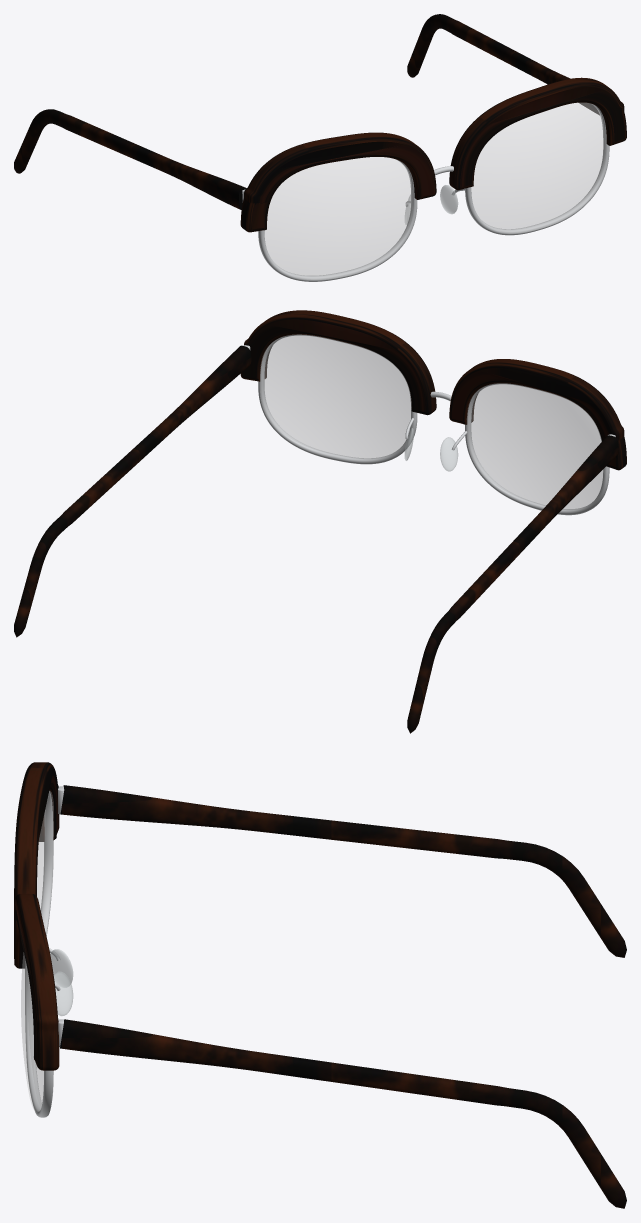
File: clark-s.glb
3 renders of one model, top to bottom at view 1: azimuth 30°, elevation 25°; view 2: azimuth 150°, elevation 25°; view 3: azimuth 270°, elevation 25°, orthographic. The views are drawn at different scales.
Visible parts, largest first — view 1: Front, Lens_R, Lens_L, Temple_R, Temple_L, NosePads; view 2: Front, Lens_L, Lens_R, Temple_L, Temple_R, NosePads; view 3: Temple_L, Temple_R, Front, Lens_L, Lens_R, NosePads.
Boxes of the visible parts, x1,y1,x2,y2 form: Front: (240,77,626,281); Lens_R: (265,157,412,279); Lens_L: (471,103,605,232); Temple_R: (14,109,246,209); Temple_L: (407,14,599,115); NosePads: (405,185,458,225); Front: (240,310,626,515); Lens_L: (260,336,411,458); Lens_R: (467,384,603,509); Temple_L: (14,345,251,637); Temple_R: (407,435,618,733); NosePads: (404,428,458,471); Temple_L: (60,1019,626,1208); Temple_R: (60,785,626,957); Front: (14,762,64,1117); Lens_L: (21,952,43,1112); Lens_R: (37,791,53,927); NosePads: (50,949,73,1016).
Bounding box in the file's own units: 0.1351 × 0.0568 × 0.1365.
5 materials, 2 textured.
